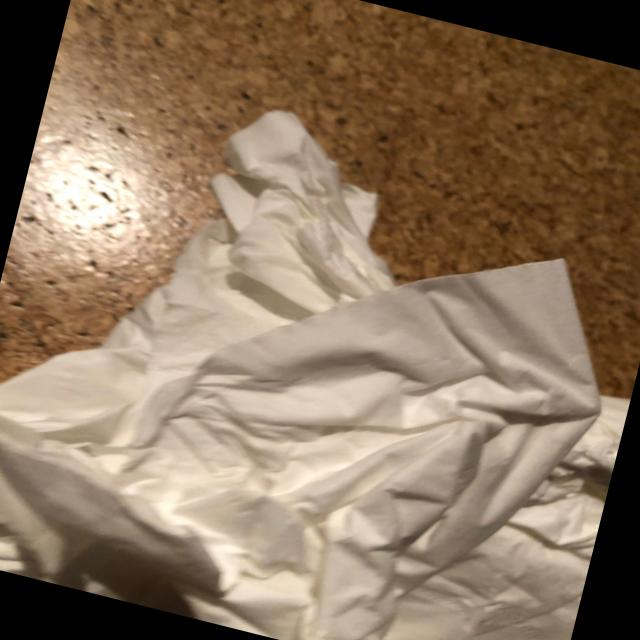organic waste: (6, 145, 640, 640), (0, 47, 436, 640)
